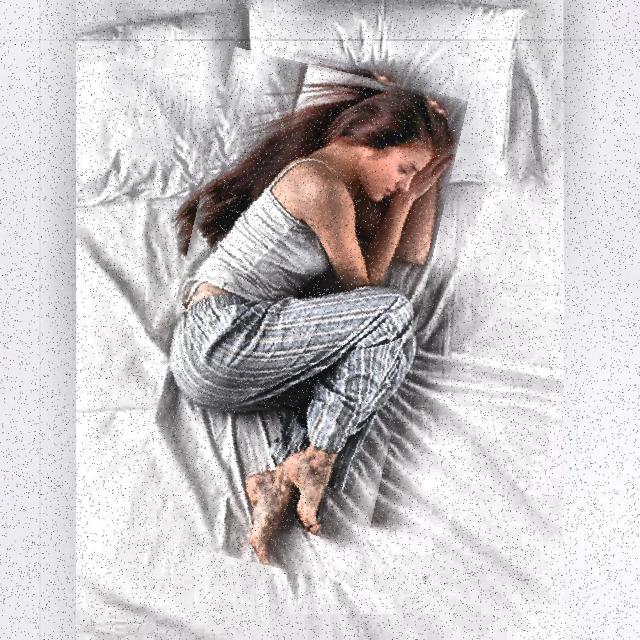Not_Supine: (171, 77, 456, 565)
